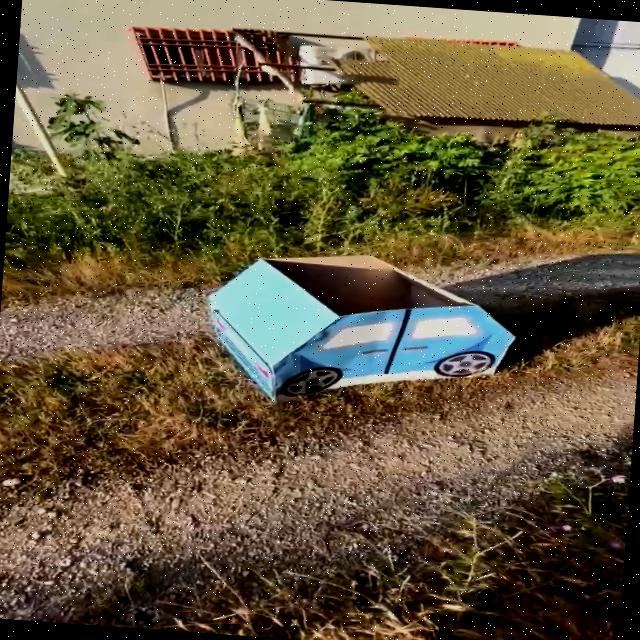blue_car: (187, 205, 555, 427)
